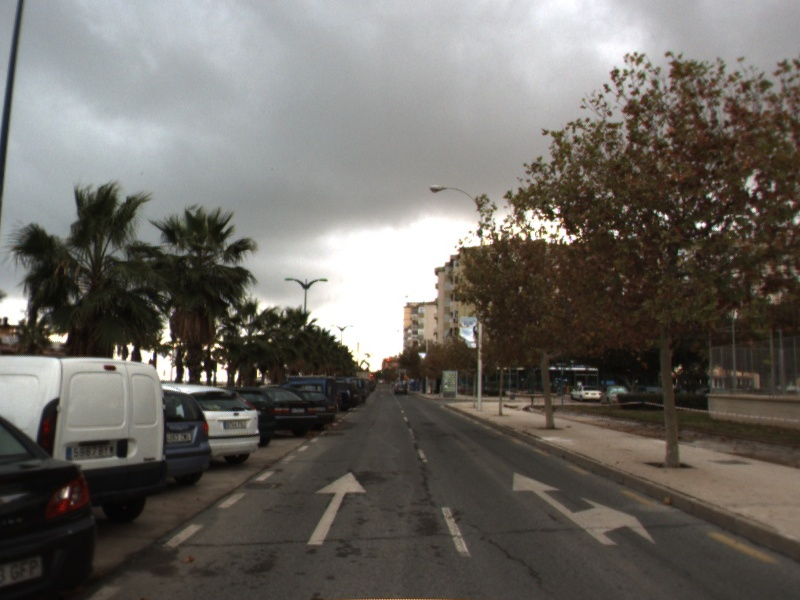STRAIGHT: (306, 470, 368, 546)
STRAIGHT_RIGHT: (511, 471, 659, 547)
